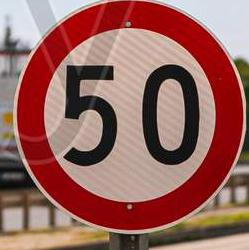Speed Limit -50-: (0, 1, 248, 249)
